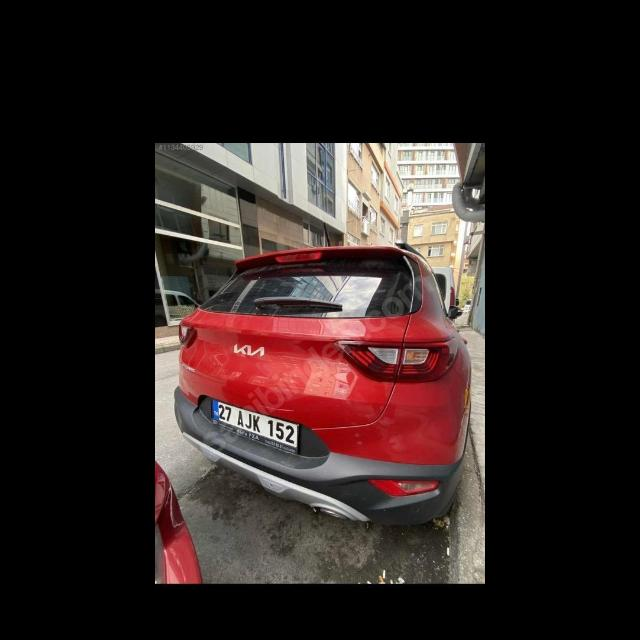Plaka: (214, 403, 298, 451)
